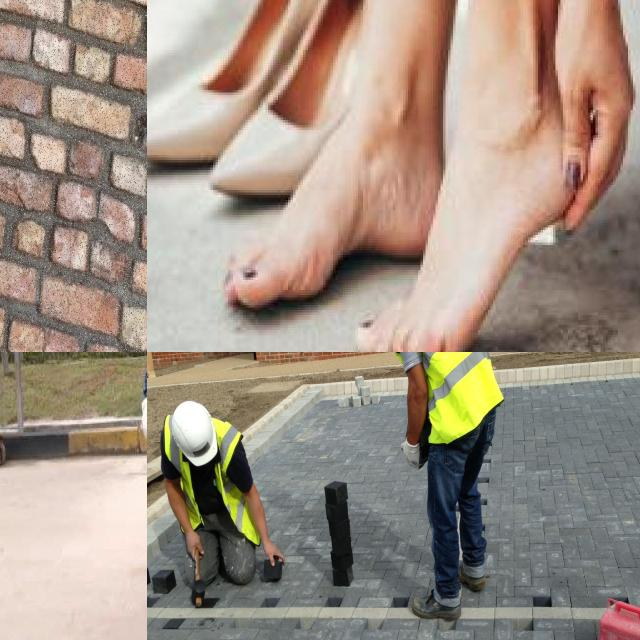Barefoots: (357, 37, 593, 352), (211, 32, 438, 310)
hand_glove: (398, 428, 430, 473), (138, 395, 147, 448)
hand_noglove: (178, 520, 212, 560), (259, 532, 287, 574)
head_helmet: (171, 399, 219, 466)
person: (361, 352, 509, 625), (151, 399, 273, 596)
shoes: (405, 591, 467, 623), (453, 556, 491, 598)
vest: (157, 408, 257, 546), (383, 352, 508, 445)
